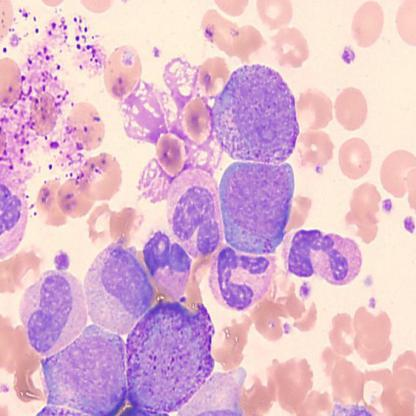Promyelocyte: (217, 162, 296, 254)
